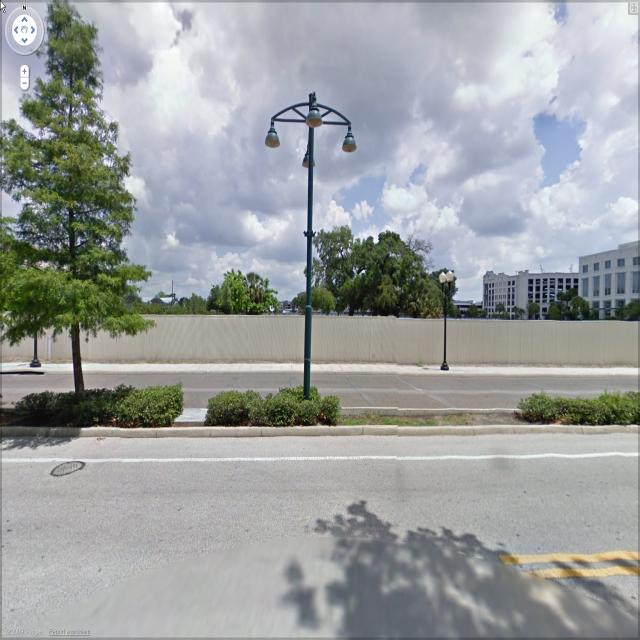b_1: (480, 255, 576, 309), (578, 235, 640, 316)
b_2: (106, 288, 186, 318)
